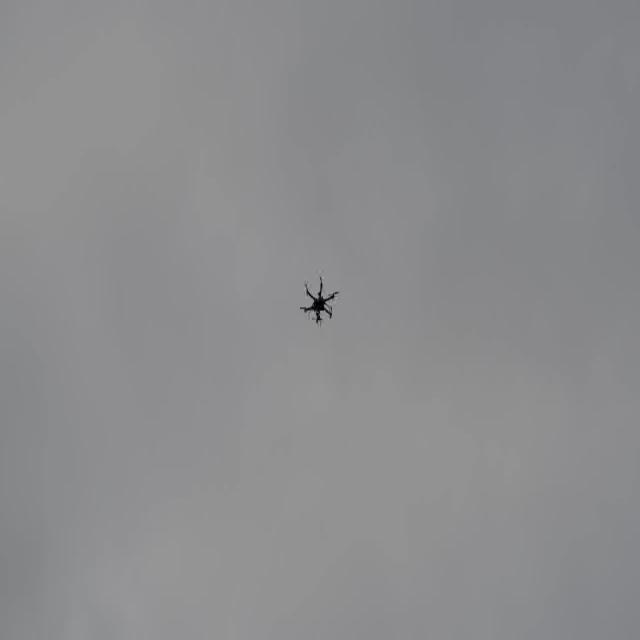drone: (298, 271, 338, 329)
